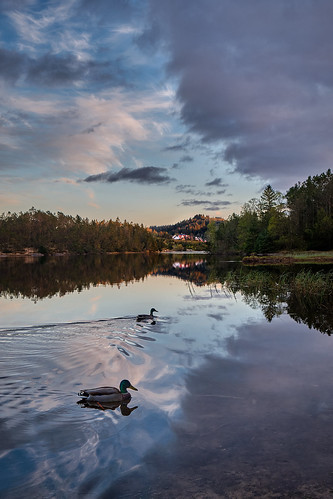animal: (72, 368, 139, 412), (132, 303, 160, 329)
river: (6, 259, 333, 499)
sky: (1, 1, 333, 192)
vegetation: (210, 181, 333, 258), (1, 210, 178, 256)
